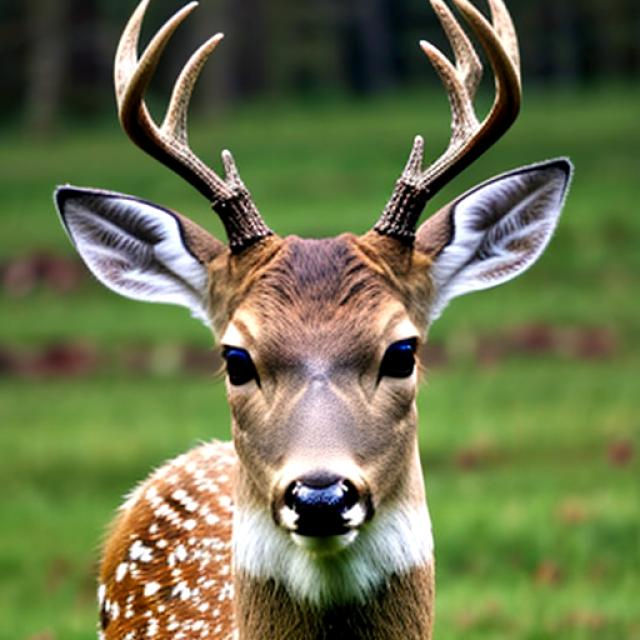deer: (33, 0, 577, 640)
